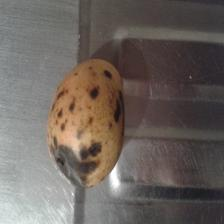Mango Semirotten: (46, 55, 129, 189)
